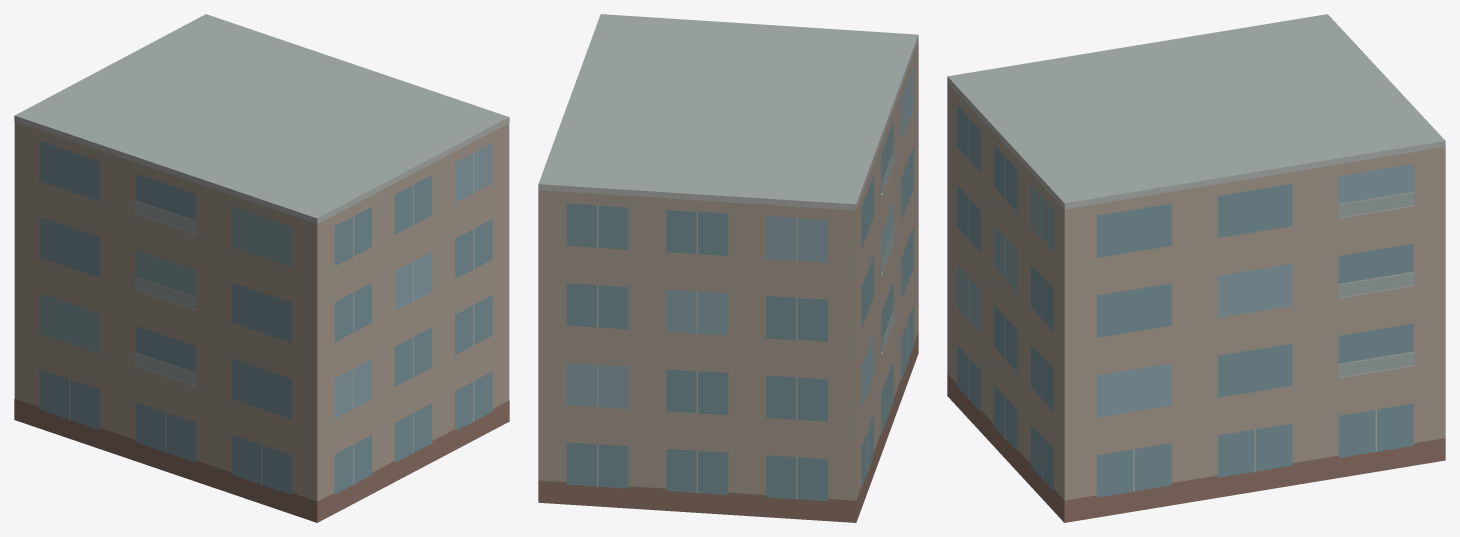
File: survey-upis-32834073.glb
3 views of the same model, side by side, from view 1: azimuth 30°, elevation 25°; view 2: azimuth 150°, elevation 25°; view 3: azimuth 270°, elevation 25° (orthographic). The views are drawn at different scales.
Visible parts, largest first — view 1: survey-upis-32834073.tmp; view 2: survey-upis-32834073.tmp; view 3: survey-upis-32834073.tmp.
Part boxes in pixels (x1=…): survey-upis-32834073.tmp: x1=14, y1=14, x2=509, y2=522; survey-upis-32834073.tmp: x1=538, y1=14, x2=918, y2=522; survey-upis-32834073.tmp: x1=947, y1=14, x2=1445, y2=522.
Bounding box in the file's own units: 16.47 × 12.95 × 18.31.
